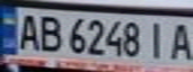2: (84, 16, 109, 56)
4: (103, 17, 127, 57)
6: (63, 15, 87, 55)
8: (121, 18, 145, 58)
A: (12, 11, 42, 51), (166, 20, 193, 62)
B: (36, 12, 63, 53)
I: (142, 19, 169, 61)
